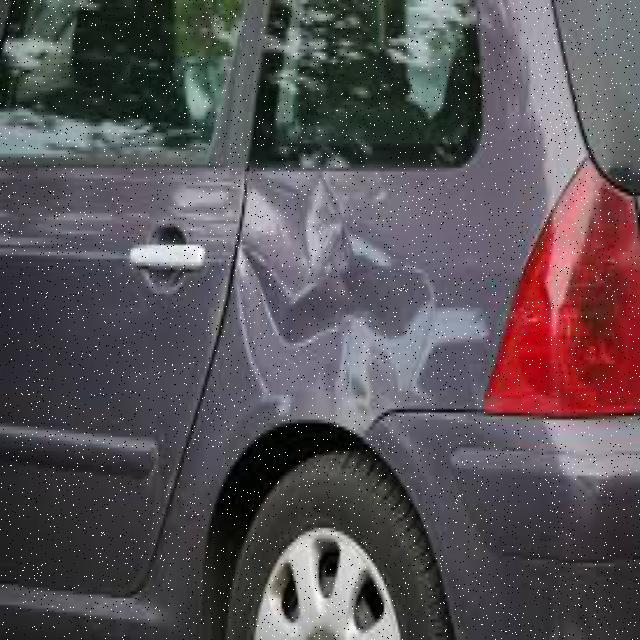quaterpanel-dent: (233, 157, 547, 520)
